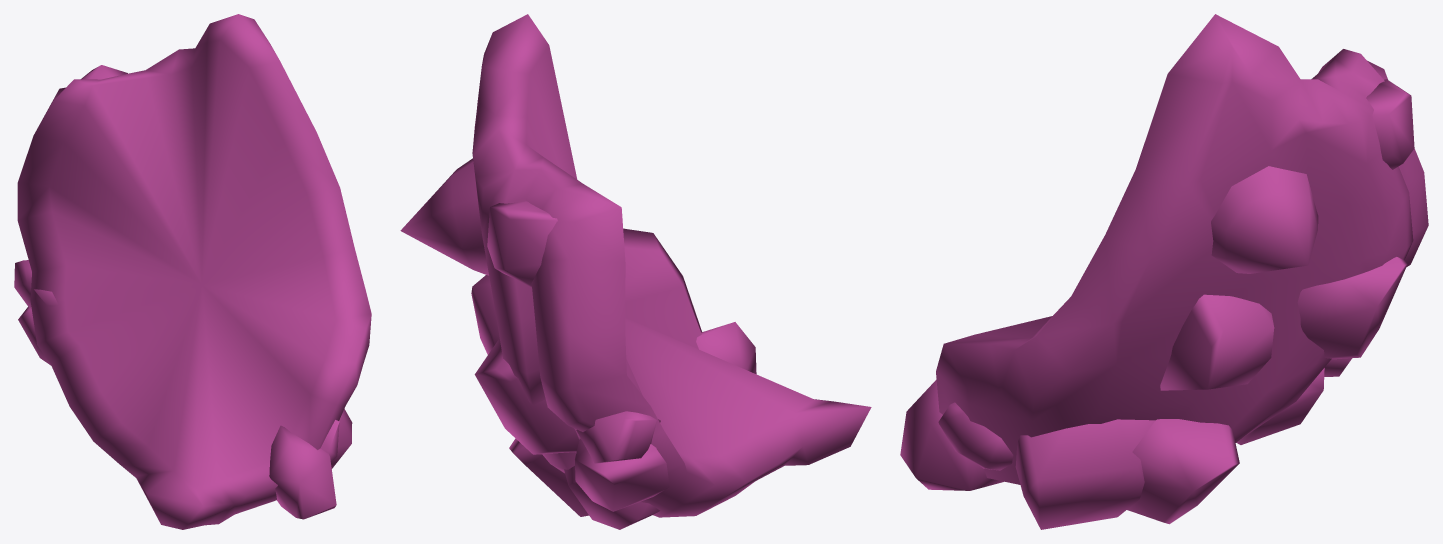
Rendered from eff_meshparticles_coral01_p9.fbx.
3 views of the same model, side by side, from view 1: azimuth 30°, elevation 25°; view 2: azimuth 150°, elevation 25°; view 3: azimuth 270°, elevation 25° (orthographic). The views are drawn at different scales.
Parts seen in each view (by area): view 1: p_mesh_hvs_coral_part09; view 2: p_mesh_hvs_coral_part09; view 3: p_mesh_hvs_coral_part09.
Boxes of the visible parts, x1=… form: p_mesh_hvs_coral_part09: x1=14, y1=14, x2=371, y2=529; p_mesh_hvs_coral_part09: x1=400, y1=14, x2=871, y2=529; p_mesh_hvs_coral_part09: x1=900, y1=14, x2=1428, y2=529.
Bounding box in the file's own units: 4.14 × 6.52 × 5.96.
